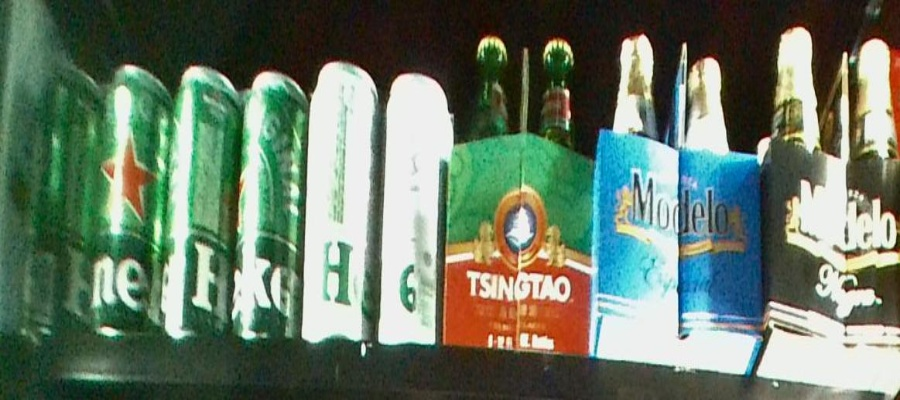bottle: (598, 28, 761, 373), (763, 21, 900, 387), (453, 27, 594, 358), (11, 63, 165, 335), (169, 56, 304, 340), (308, 50, 377, 345), (383, 58, 447, 350)
